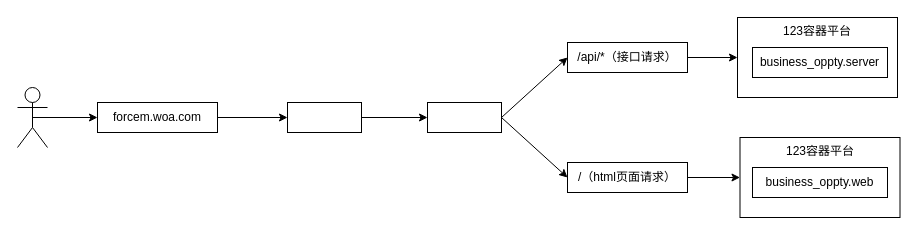
Image size: 918x235. Some labels were removed from this diagram. The centre of each missing label's shape, as x and y in pixels:
ias(负载均衡): point (464, 117)
user: point (32, 117)
智能网关: point (324, 117)
